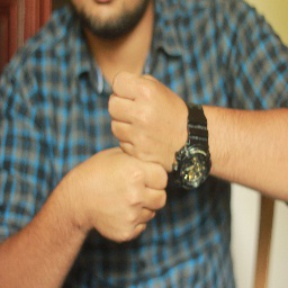G: (83, 68, 182, 242)
